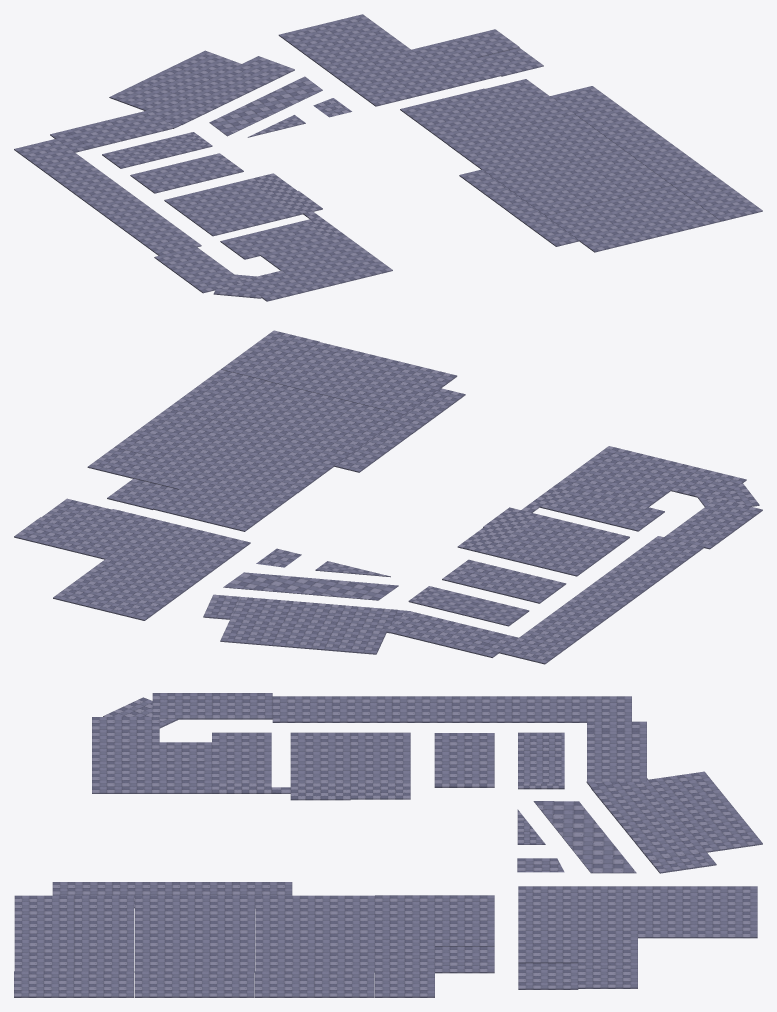
Rendered from Pavements_Connected.fbx.
3 views of the same model, one above another, from view 1: azimuth 30°, elevation 25°; view 2: azimuth 150°, elevation 25°; view 3: azimuth 270°, elevation 25° (orthographic). The views are drawn at different scales.
Parts seen in each view (by area): view 1: big_piece, Cube__26_, Cube__22_, Cube__54_, Cube__90_, Cube__7_, Cube__94_, Cube__91_, Cube__29_, Cube__62_, Cube__49_, Cube__21_ (+69 smaller); view 2: big_piece, Cube__18_, Cube__4_, Cube__61_, Cube__26_, Cube__73_, Cube__23_, Cube__37_, Cube__38_, Cube__39_, Cube__20_, Cube__68_ (+69 smaller); view 3: big_piece, Cube__59_, Cube__60_, Cube__72_, Cube__86_, Cube__87_, Cube__78_, Cube__79_, Cube__12_, Cube__13_, Cube__14_, Cube__16_ (+72 smaller).
Part boxes in pixels (<box>): big_piece: <box>209,76,322,136</box>; Cube__26_: <box>130,164,196,193</box>; Cube__22_: <box>188,207,254,236</box>; Cube__54_: <box>351,78,417,106</box>; Cube__90_: <box>570,223,636,252</box>; Cube__7_: <box>243,273,308,301</box>; Cube__94_: <box>697,193,762,221</box>; Cube__91_: <box>613,213,678,242</box>; Cube__29_: <box>173,154,238,183</box>; Cube__62_: <box>436,57,501,85</box>; Cube__49_: <box>327,252,392,280</box>; Cube__21_: <box>108,110,173,138</box>; big_piece: <box>223,572,398,600</box>; Cube__18_: <box>499,633,571,664</box>; Cube__4_: <box>592,500,664,531</box>; Cube__61_: <box>98,589,171,620</box>; Cube__26_: <box>493,572,566,603</box>; Cube__73_: <box>199,500,271,531</box>; Cube__23_: <box>531,545,603,576</box>; Cube__37_: <box>324,627,386,654</box>; Cube__38_: <box>272,623,334,650</box>; Cube__39_: <box>220,618,282,645</box>; Cube__20_: <box>429,622,501,653</box>; Cube__68_: <box>153,489,224,520</box>; big_piece: <box>533,801,636,873</box>; Cube__59_: <box>638,911,697,938</box>; Cube__60_: <box>698,911,757,938</box>; Cube__72_: <box>435,946,494,973</box>; Cube__86_: <box>134,971,194,997</box>; Cube__87_: <box>194,971,254,997</box>; Cube__78_: <box>254,971,314,997</box>; Cube__79_: <box>314,971,374,997</box>; Cube__12_: <box>212,693,272,719</box>; Cube__13_: <box>272,696,332,722</box>; Cube__14_: <box>332,696,392,722</box>; Cube__16_: <box>452,696,512,722</box>.
Bounding box in the file's own units: 21558 × 73.4 × 22484.
